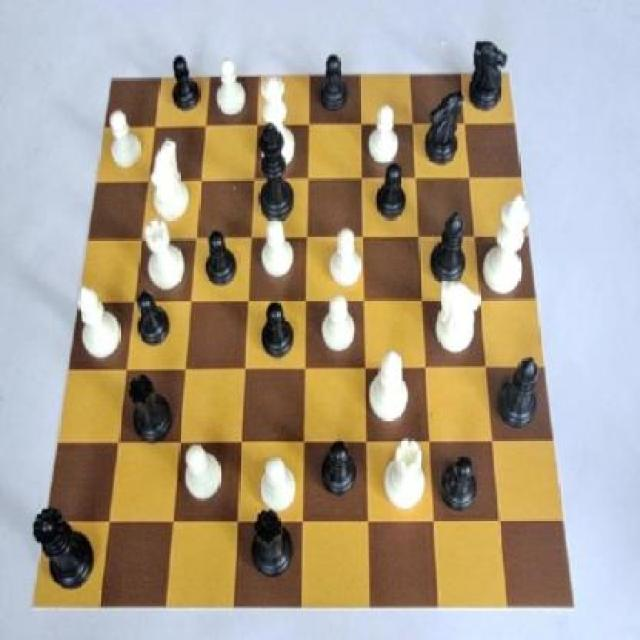bishop: (492, 346, 547, 433), (424, 208, 470, 295)
black-bishop: (251, 115, 299, 227)
black-king: (418, 88, 467, 175), (464, 34, 512, 121)
black-knight: (434, 454, 490, 523), (251, 298, 302, 366), (314, 45, 358, 120), (131, 288, 175, 359), (372, 157, 416, 226), (316, 432, 356, 506), (166, 46, 205, 117), (202, 224, 242, 288)
black-pawn: (31, 504, 96, 598)
black-queen: (246, 498, 299, 587), (121, 368, 178, 448)
black-rook: (363, 339, 419, 433), (75, 280, 121, 369)
white-bishop: (478, 184, 534, 296)
white-king: (143, 137, 198, 228), (429, 276, 483, 362)
white-knight: (317, 217, 369, 295), (250, 212, 302, 288), (176, 440, 228, 514), (248, 448, 300, 522), (315, 286, 364, 362), (365, 97, 407, 173), (104, 108, 148, 174), (212, 52, 248, 127)
white-pawn: (257, 68, 301, 177)
white-queen: (140, 218, 189, 298), (377, 440, 429, 515)
